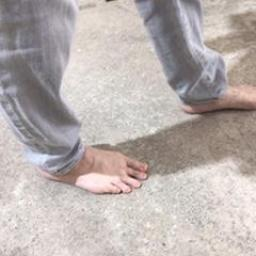Lateral View -Right Foot-: (15, 138, 151, 202)
